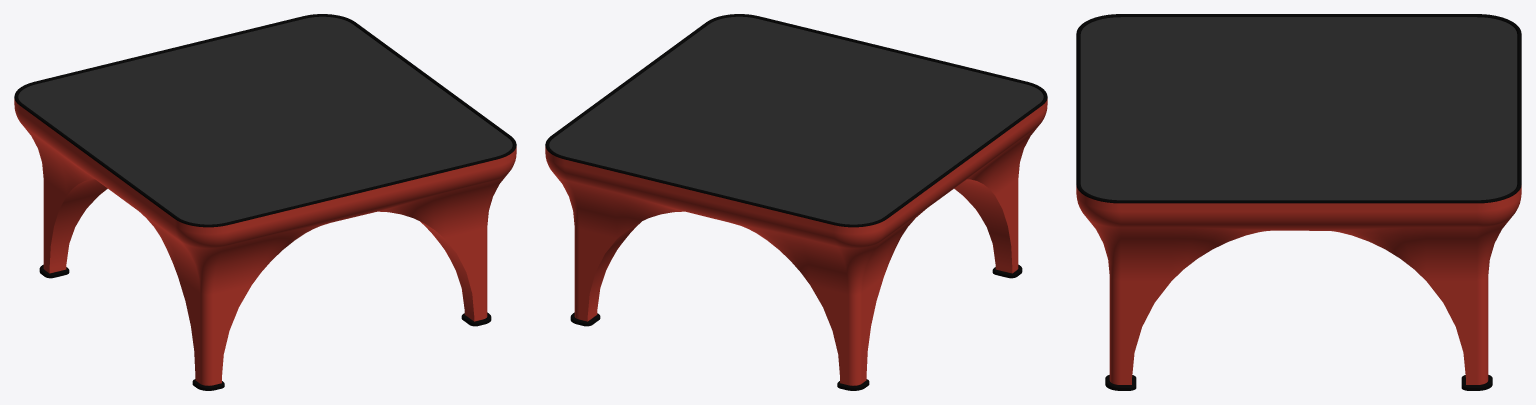
Rendered from o_table_link.obj.
3 views of the same model, side by side, from view 1: azimuth 30°, elevation 25°; view 2: azimuth 150°, elevation 25°; view 3: azimuth 270°, elevation 25° (orthographic). The views are drawn at different scales.
Parts seen in each view (by area): view 1: TABLE-2-solid1; view 2: TABLE-2-solid1; view 3: TABLE-2-solid1.
Part boxes in pixels (box(x1,y1,x2,y2)): TABLE-2-solid1: box(14, 14, 516, 390); TABLE-2-solid1: box(545, 14, 1047, 390); TABLE-2-solid1: box(1076, 14, 1521, 390).
Bounding box in the file's own units: 1.2 × 0.6 × 1.2.
